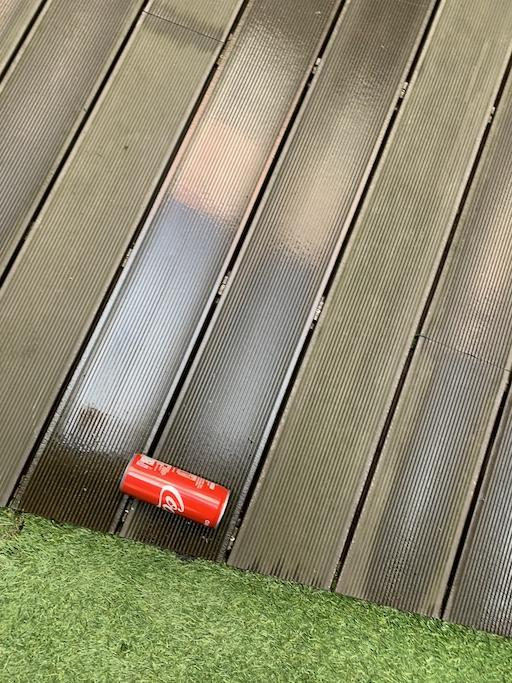Aluminum can: (116, 436, 258, 545)
